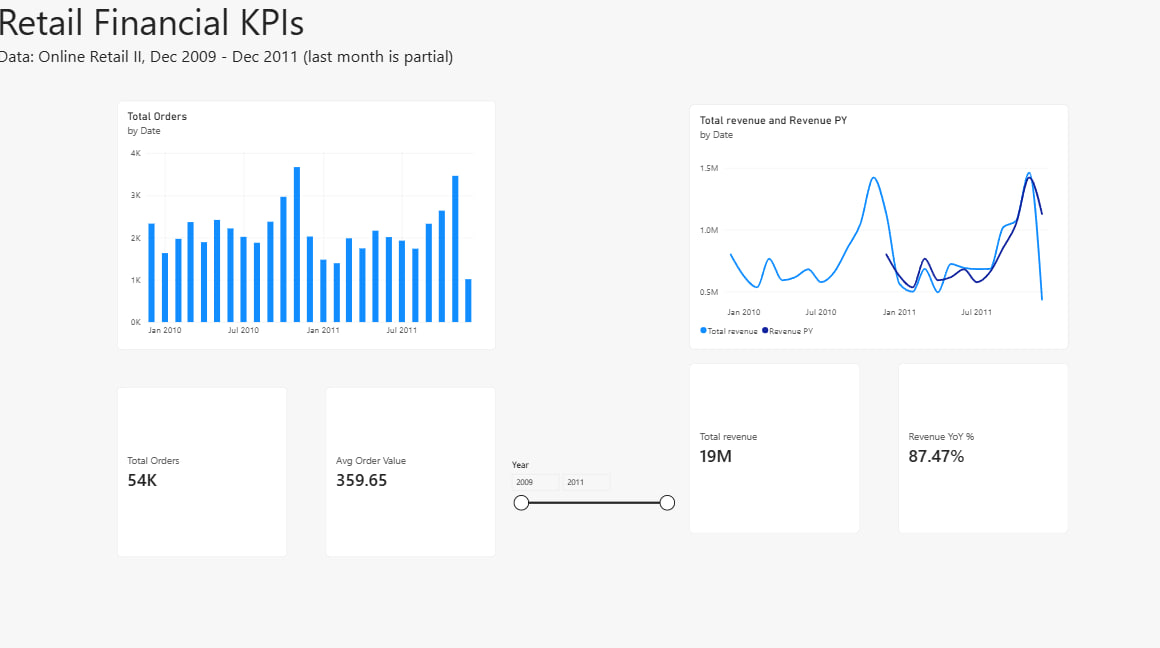

Layout of this report page (visuals, bound fields, positions):
{"tool":"powerbi","page":{"name":"Financial KPIs","canvas":[1920,1080],"ordinal":0},"visuals":[{"type":"cardVisual","fields":{"Data":["monthly_kpi.Total revenue"]},"box":[1140.3,603.1,280,280],"z":0},{"type":"cardVisual","fields":{"Data":["monthly_kpi.Total Orders"]},"box":[197.6,642.2,280,280],"z":1000},{"type":"cardVisual","fields":{"Data":["monthly_kpi.Avg Order Value"]},"box":[541.3,642.2,280,280],"z":2000},{"type":"lineChart","fields":{"Category":["dim_date.Date"],"Y":["monthly_kpi.Total revenue","monthly_kpi.Revenue PY"]},"box":[1140.3,177,623.7,403.4],"z":3000},{"type":"clusteredColumnChart","fields":{"Category":["dim_date.Date"],"Y":["monthly_kpi.Total Orders"]},"box":[197.6,170.8,623.7,409.6],"z":4000},{"type":"cardVisual","fields":{"Data":["monthly_kpi.Revenue YoY %"]},"box":[1484.1,603.1,280,280],"z":5000},{"type":"slicer","fields":{"Values":["dim_date.Year"]},"box":[839.8,761.6,279.9,160.5],"z":6000},{"type":"textbox","box":[0,0,771.9,140],"z":7000}]}

Visuals, with their boxes in screenshot pixels (x1, y1, x2, y2), scaled from the page's 1920x1080 canvas onto the 1160x648 screenshot:
cardVisual - monthly_kpi.Total revenue: Rect(689, 362, 858, 530)
cardVisual - monthly_kpi.Total Orders: Rect(119, 385, 289, 553)
cardVisual - monthly_kpi.Avg Order Value: Rect(327, 385, 496, 553)
lineChart - dim_date.Date x monthly_kpi.Total revenue: Rect(689, 106, 1066, 348)
clusteredColumnChart - dim_date.Date x monthly_kpi.Total Orders: Rect(119, 102, 496, 348)
cardVisual - monthly_kpi.Revenue YoY %: Rect(897, 362, 1066, 530)
slicer - dim_date.Year: Rect(507, 457, 676, 553)
textbox: Rect(0, 0, 466, 84)
